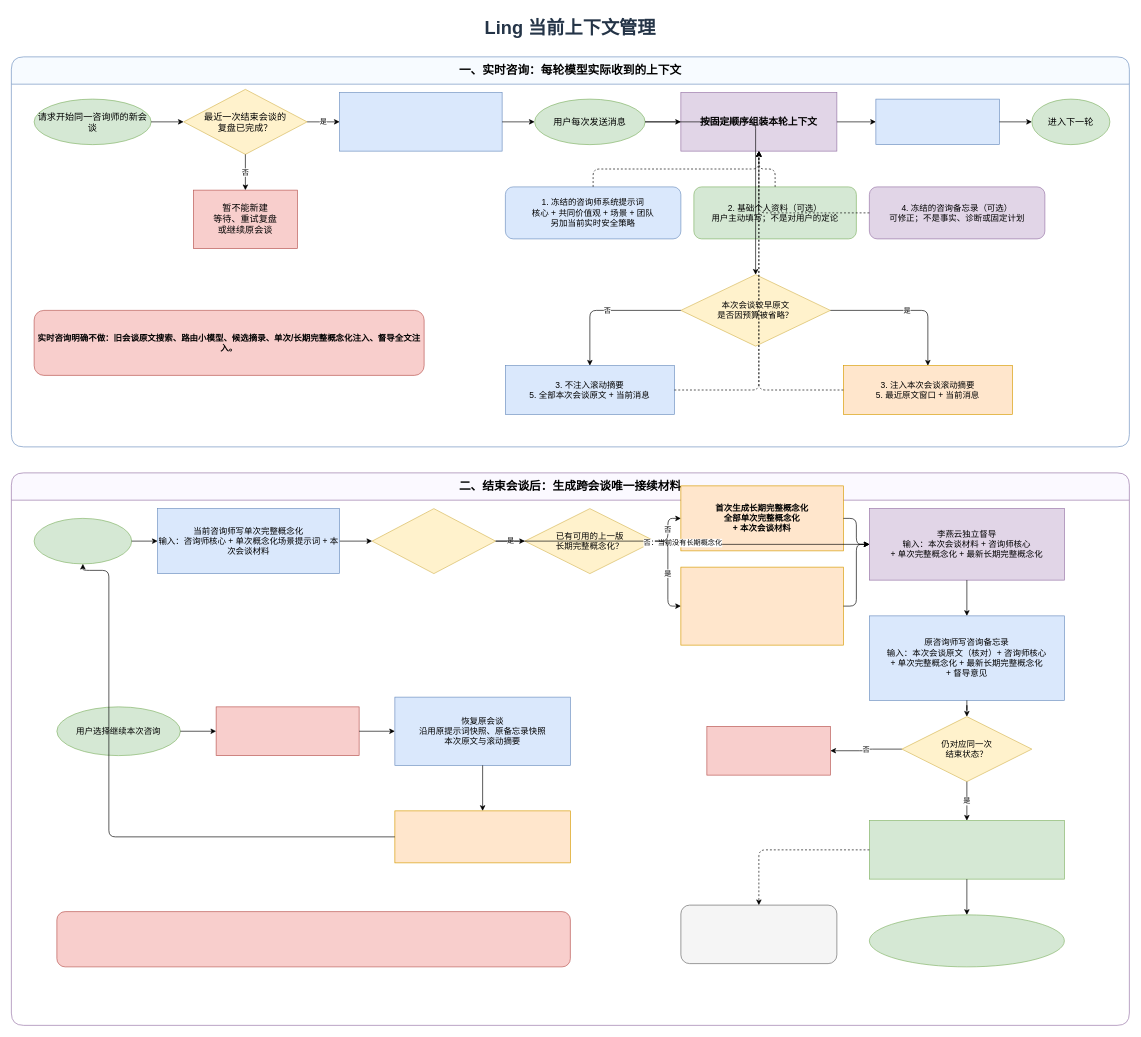
The diagram is 1141 pixels wide and 1037 high, and some of its shapes have lost their labels. The shapes that lost their labels are listed below. From the top down, each one's centre as x and y in pixels, then its label:
point (420, 121): 创建会谈并冻结两份内容 ① 咨询师系统提示词 ② 最新咨询备忘录（可选）
point (937, 121): 咨询模型生成回复
point (82, 541): 用户结束会谈
point (433, 541): 同一咨询师已有 至少 2 次会谈？
point (761, 605): 后续更新长期完整概念化 上一版长期完整概念化 + 最近 3 次单次完整概念化 + 本次会谈材料
point (287, 731): 使本次复盘批次及产物失效
point (768, 750): 整批作废 不得进入后续上下文
point (482, 836): 再次结束时 从头重跑整条复盘链路
point (966, 849): 原子发布全部复盘结果 准备状态变为已完成
point (313, 939): 长期概念化没有旧会谈筛选模型、历史候选摘录或自动搜索。更早历史由上一版长期完整概念化承接，新材料始终可以修正旧理解。
point (758, 934): 并行生成咨询师来信 只供用户查看，不进入咨询上下文
point (966, 940): 允许创建同咨询师新会谈 并冻结最新咨询备忘录
